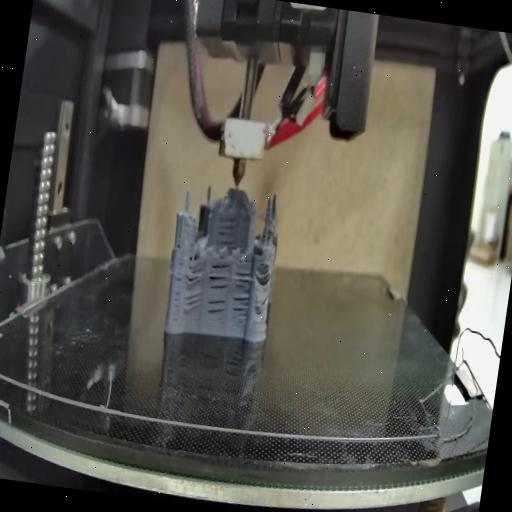cracks: (228, 270, 254, 321), (169, 264, 186, 328), (204, 256, 234, 292), (214, 215, 242, 253), (184, 263, 206, 289), (206, 296, 228, 320), (256, 265, 276, 287), (184, 292, 202, 316), (253, 291, 269, 317), (176, 236, 183, 251)
